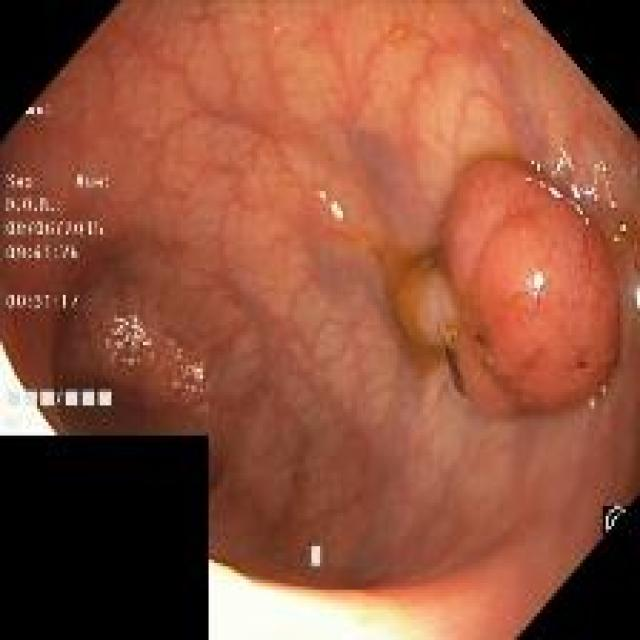Polyps: (396, 161, 619, 417)
